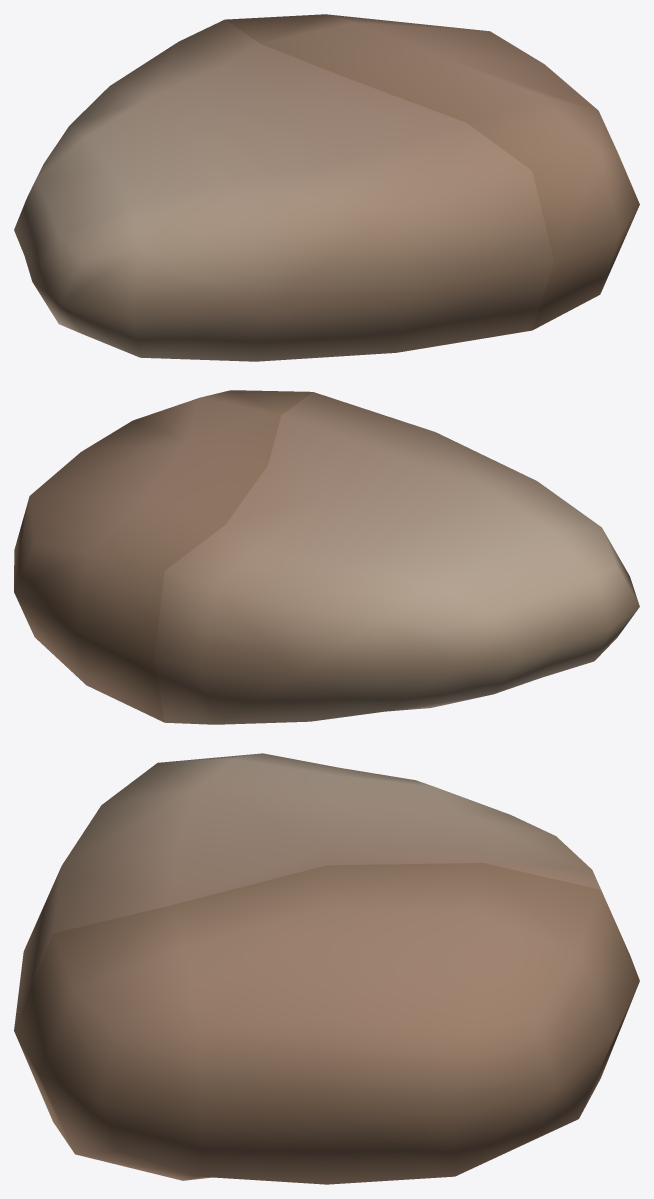
File: ColoredPebble.002.glb
3 views of the same model, one above another, from view 1: azimuth 30°, elevation 25°; view 2: azimuth 150°, elevation 25°; view 3: azimuth 270°, elevation 25° (orthographic). The views are drawn at different scales.
Parts seen in each view (by area): view 1: ColoredPebble.002; view 2: ColoredPebble.002; view 3: ColoredPebble.002.
Boxes of the visible parts, x1,y1,x2,y2 form: ColoredPebble.002: [14, 14, 639, 361]; ColoredPebble.002: [14, 390, 639, 724]; ColoredPebble.002: [14, 753, 639, 1184].
Bounding box in the file's own units: 12.58 × 4.69 × 10.42.
